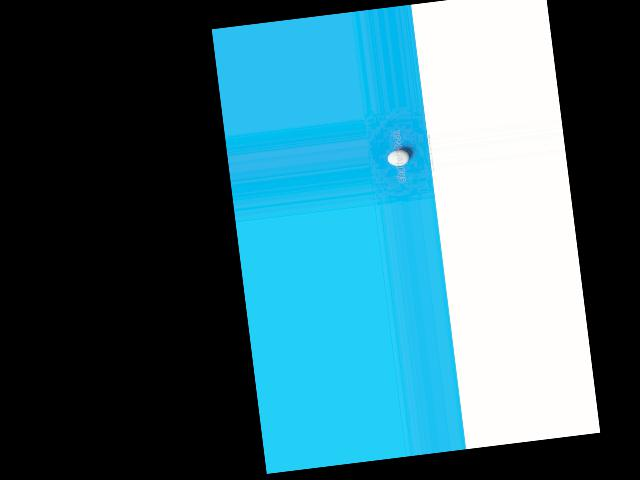egg: (386, 148, 410, 166)
